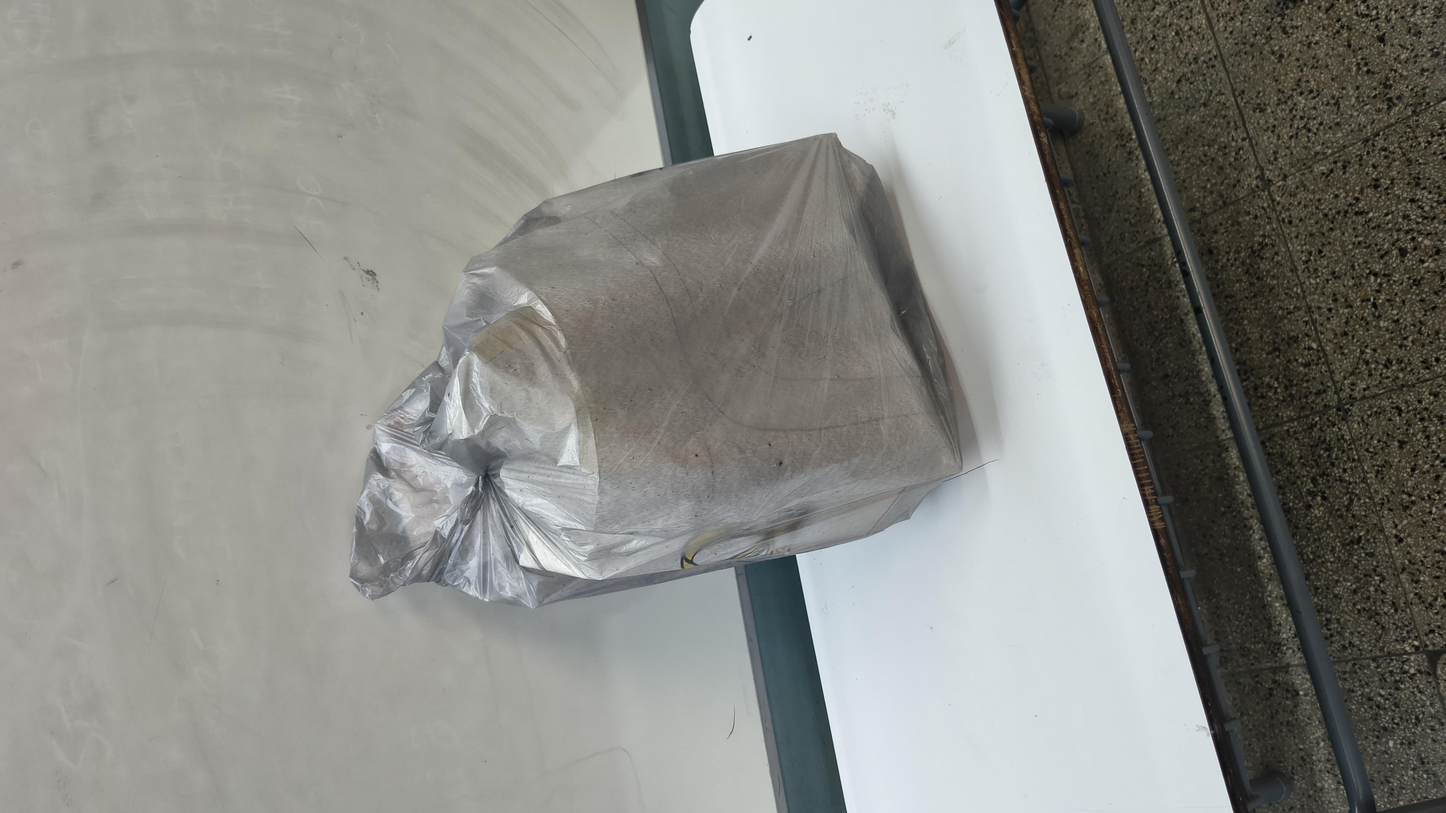Garbage: (251, 181, 1362, 552)
